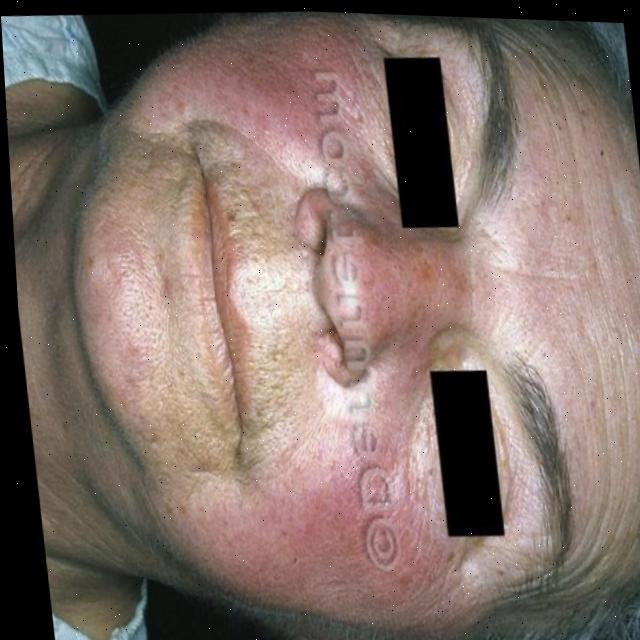Rosacea: (213, 384, 410, 591), (303, 187, 477, 377), (142, 23, 336, 163)
